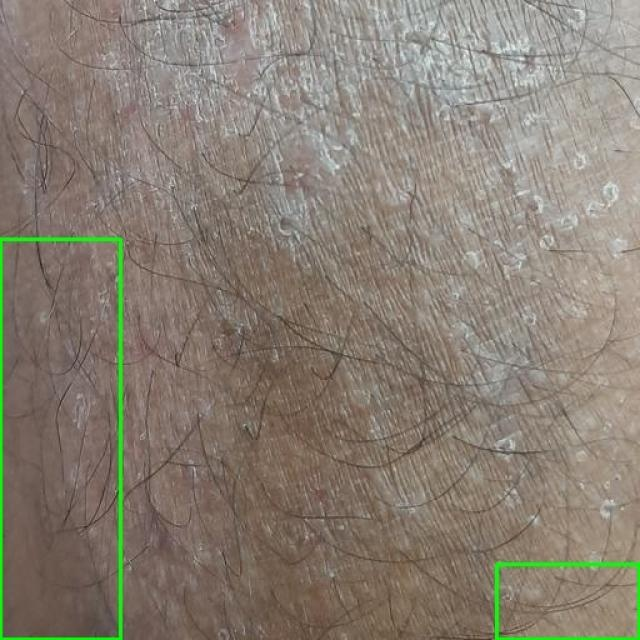Contact Dermatitis: (0, 239, 120, 639), (496, 564, 639, 639)
